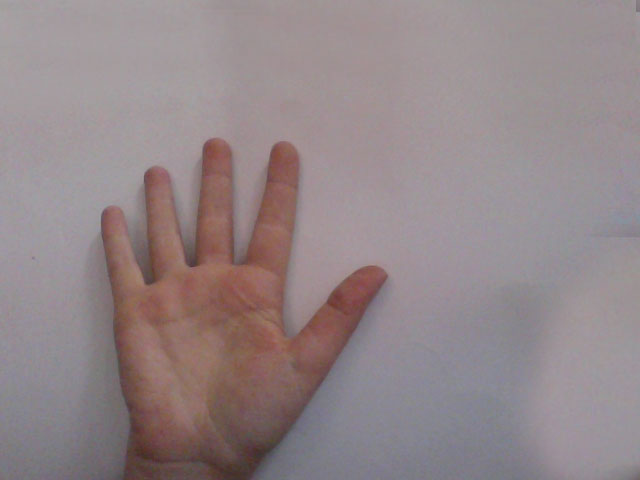hand: (90, 126, 400, 458)
